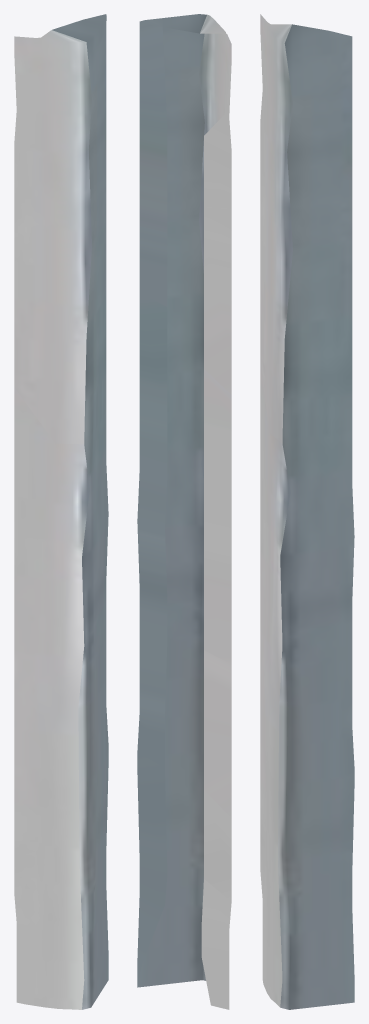
File: z20-167791-405228-h1-yup-uvflip-v3-world.glb
The picture shows the model from 3 angles, left to right: view 1: azimuth 30°, elevation 25°; view 2: azimuth 150°, elevation 25°; view 3: azimuth 330°, elevation 25°; orthographic projection.
Bounding box in the file's own units: 1.64 × 16.08 × 0.72.
1 material, 1 textured.
